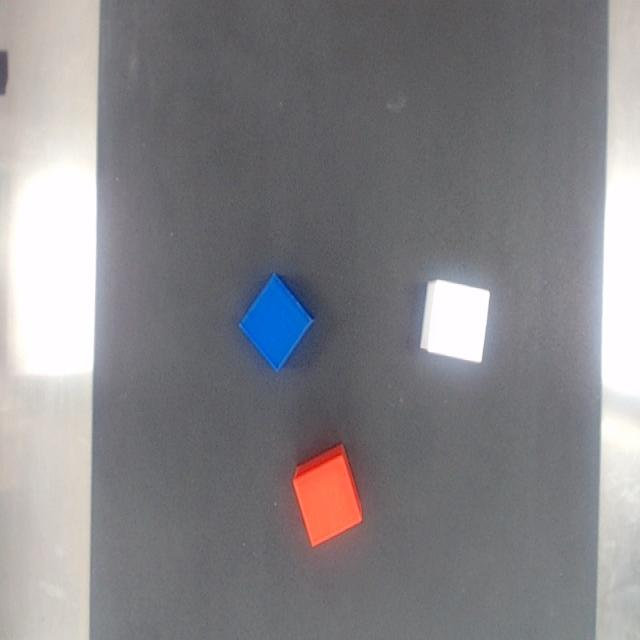Azul: (239, 273, 313, 371)
Blanco: (420, 280, 489, 361)
Rojo: (292, 444, 362, 547)
